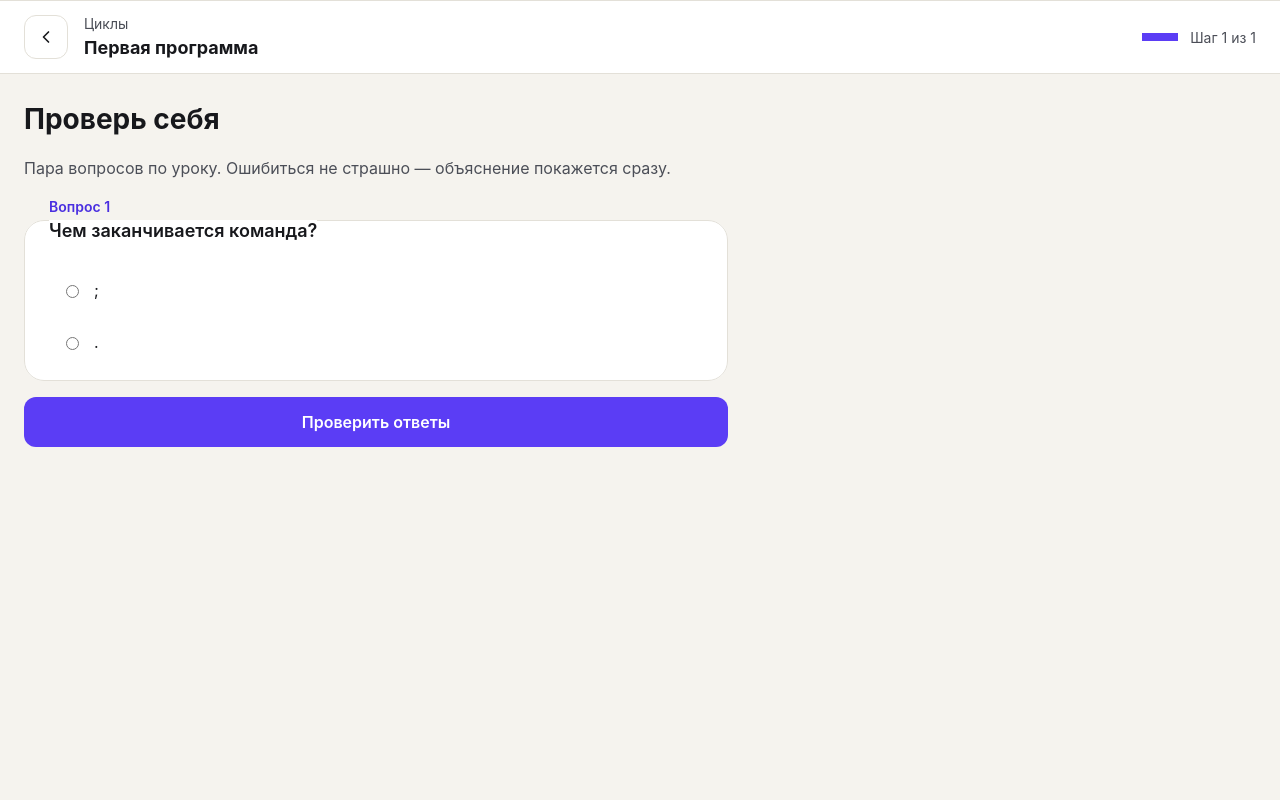
Scenario: LessonView › последний модуль пройден, а прошлые нет — не «курс пройден», а первый непройденный урок
Click the radio button labelled ";": [72, 292] box [66,285,79,298]
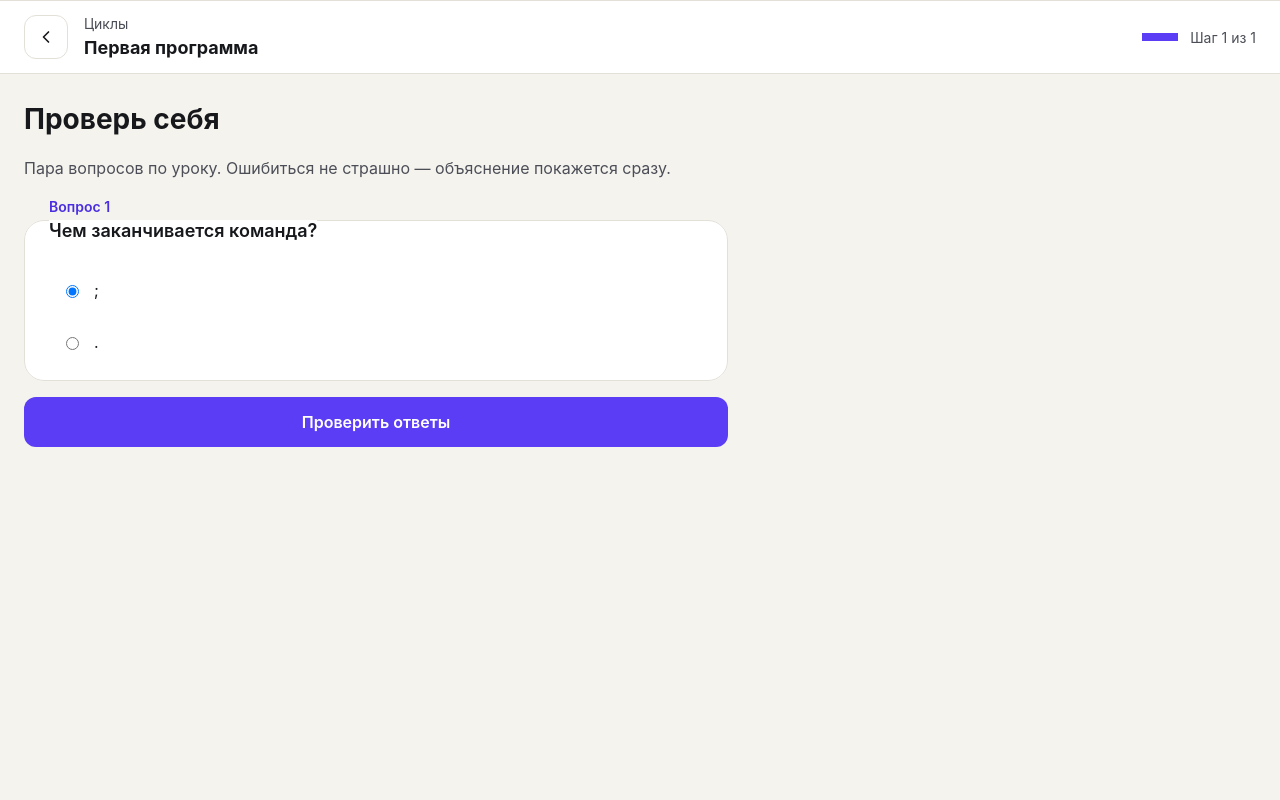
Click the button "Проверить ответы": [376, 422] box [24,397,728,447]
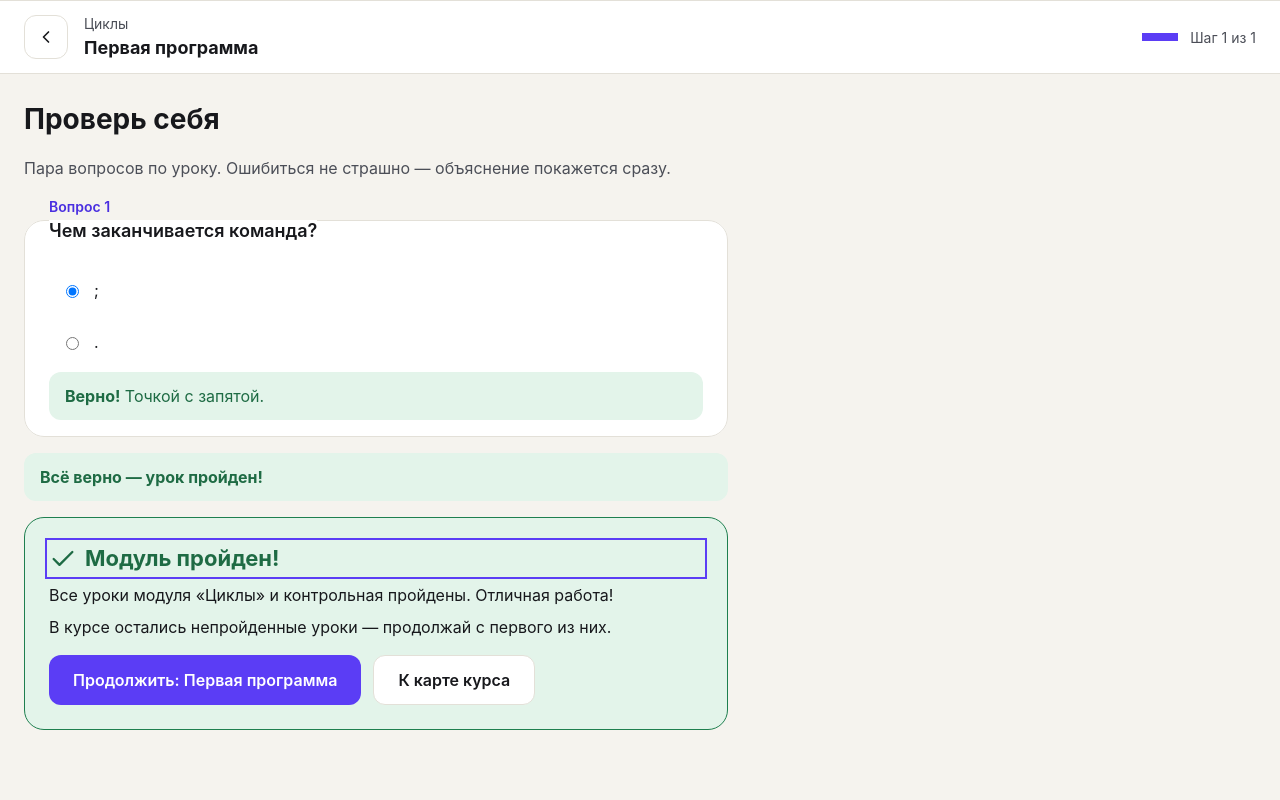
Check: the heading "Модуль пройден!" is shown, box [49,544,280,572]
Check: the element that starts with "Модуль пройден!" shows "В курсе остались непройденные уроки", box [49,617,612,637]
